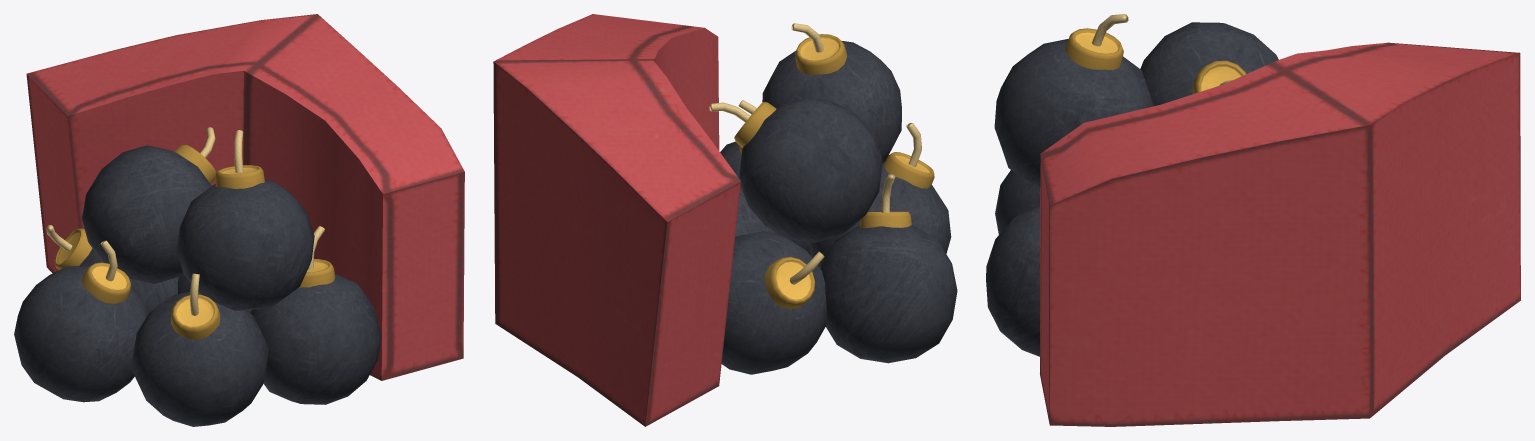
Rendered from bombPile.obj.
The picture shows the model from 3 angles, left to right: view 1: azimuth 30°, elevation 25°; view 2: azimuth 150°, elevation 25°; view 3: azimuth 270°, elevation 25°; orthographic projection. The views are drawn at different scales.
Parts seen in each view (by area): view 1: pCube2; view 2: pCube2; view 3: pCube2.
Part boxes in pixels (x1=…): pCube2: x1=14, y1=14, x2=464, y2=426; pCube2: x1=493, y1=14, x2=957, y2=426; pCube2: x1=986, y1=14, x2=1520, y2=426.
Bounding box in the file's own units: 2.84 × 1.91 × 2.95.
